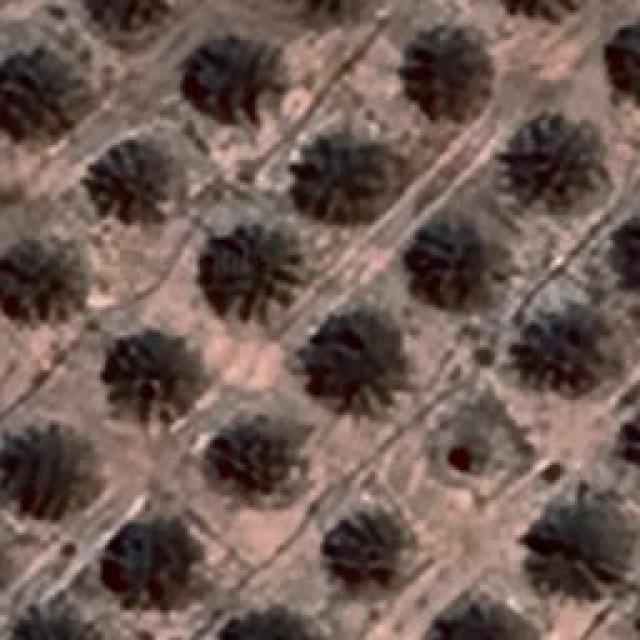PalmTree: (38, 39, 621, 253), (530, 484, 640, 604), (200, 220, 302, 320), (191, 32, 284, 122), (524, 295, 616, 383), (0, 50, 88, 140), (516, 107, 596, 205), (408, 220, 492, 310), (399, 38, 489, 120), (2, 426, 92, 506), (110, 521, 195, 604), (327, 510, 415, 590), (306, 134, 394, 214), (0, 236, 80, 322), (321, 316, 411, 386), (100, 142, 180, 220), (208, 426, 288, 499), (105, 341, 183, 414), (1, 599, 104, 640), (429, 599, 532, 640), (218, 599, 320, 640), (602, 22, 640, 102), (280, 0, 374, 21), (495, 0, 586, 18), (622, 396, 640, 478), (282, 0, 374, 15), (492, 0, 586, 12), (281, 0, 375, 11), (629, 398, 640, 478)
